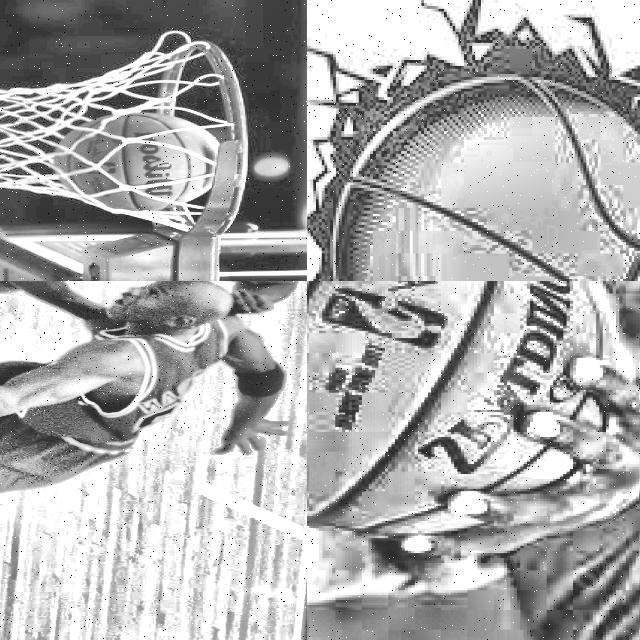Basketball: (307, 281, 628, 538), (328, 71, 640, 281), (55, 112, 218, 211)
